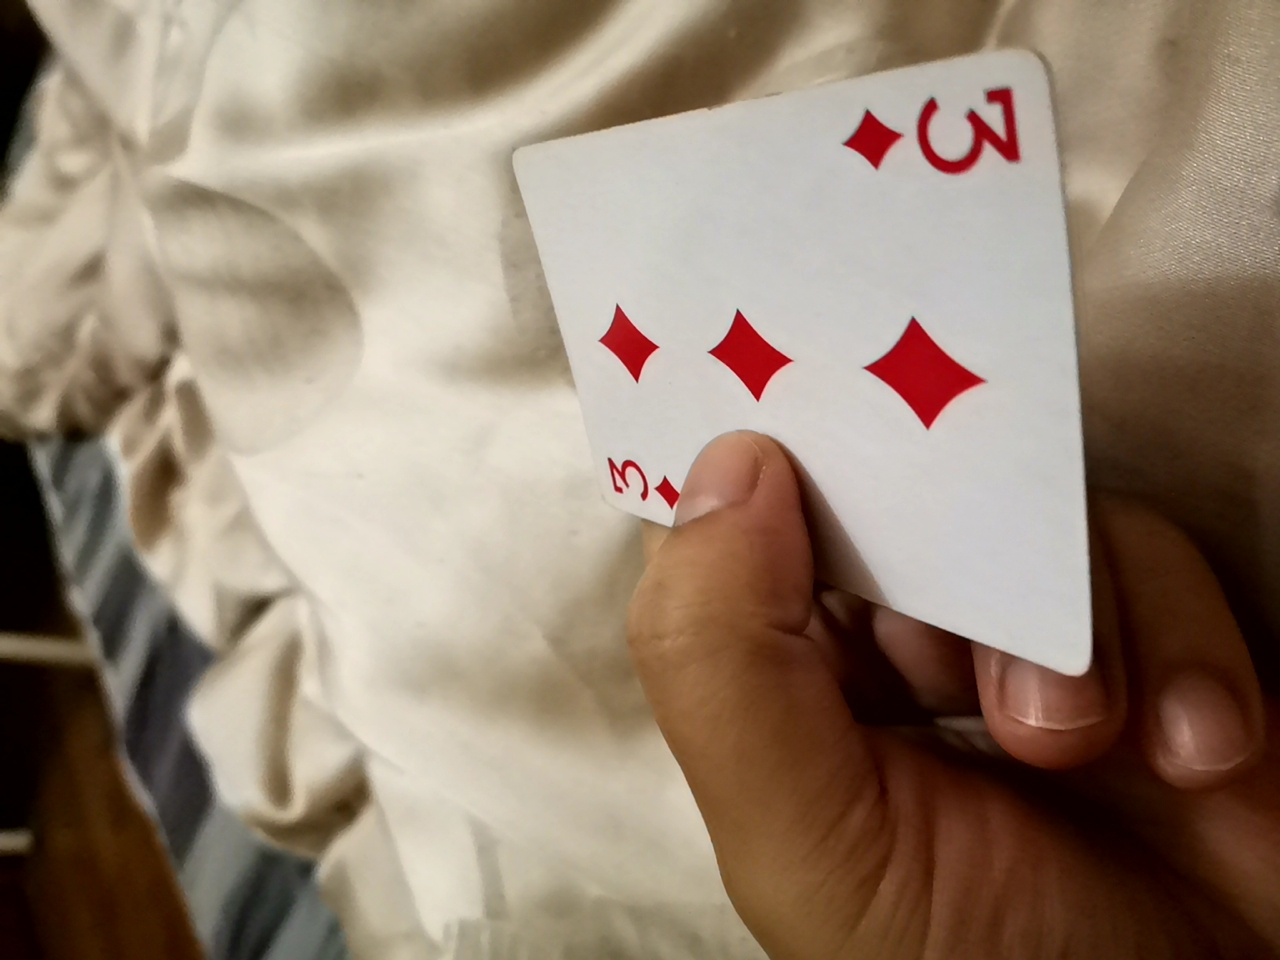fk 3: (517, 27, 1096, 685)
